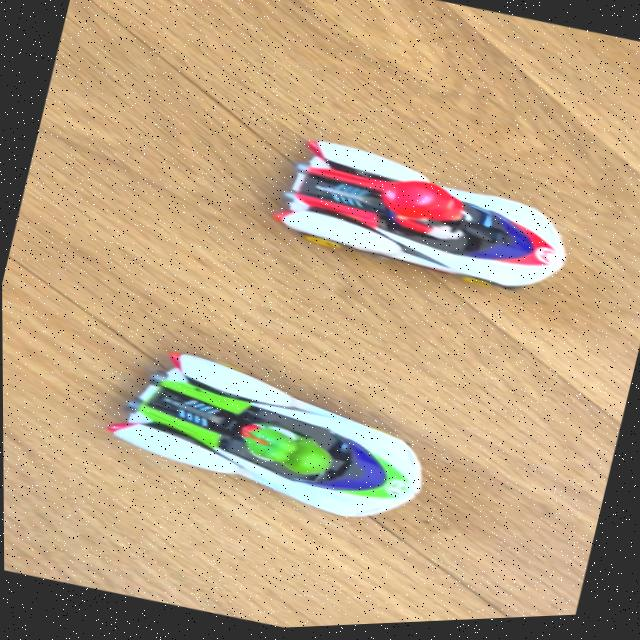mario: (250, 116, 593, 316)
yoshi: (80, 315, 461, 556)
